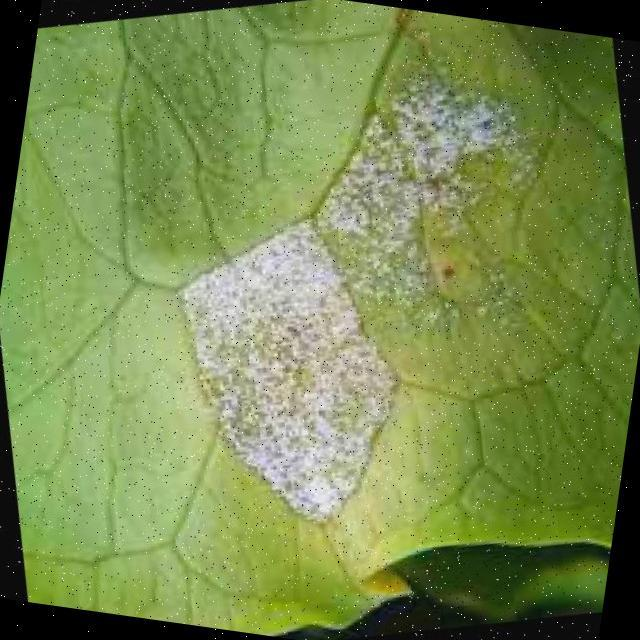Powdery_Mildew: (100, 33, 629, 598)
